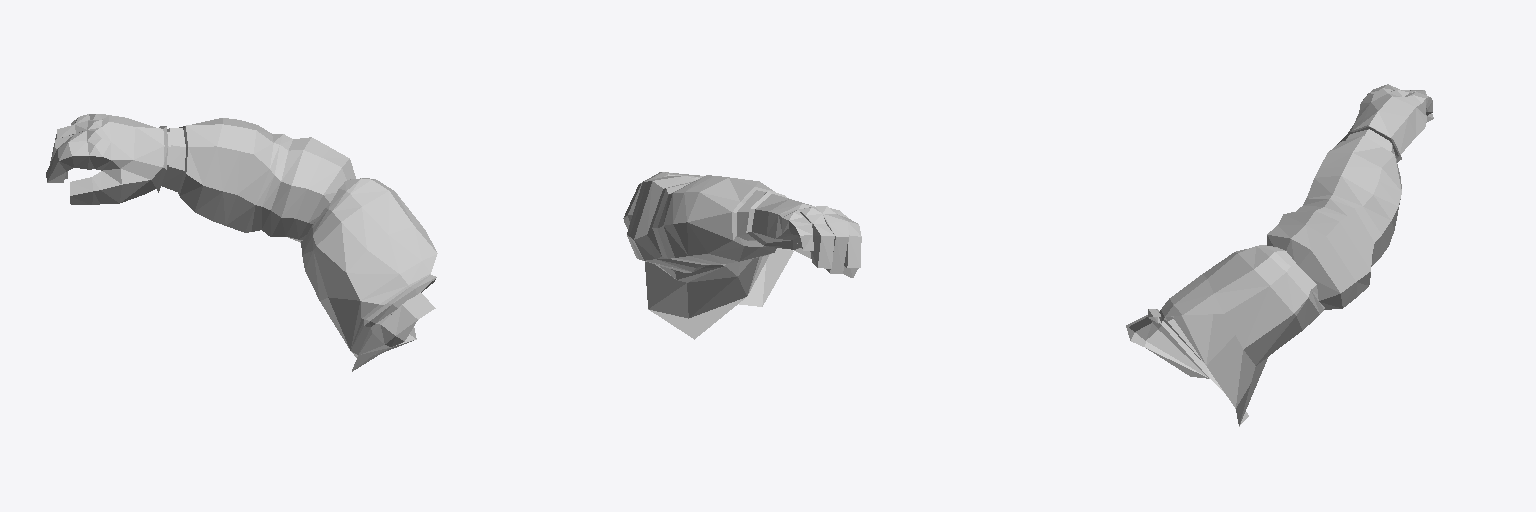
The model's file is player1_hand.obj.
The picture shows the model from 3 angles: view 1: azimuth 30°, elevation 25°; view 2: azimuth 150°, elevation 25°; view 3: azimuth 270°, elevation 25°; orthographic projection.
Bounding box in the file's own units: 1.03 × 0.7605 × 0.9115.